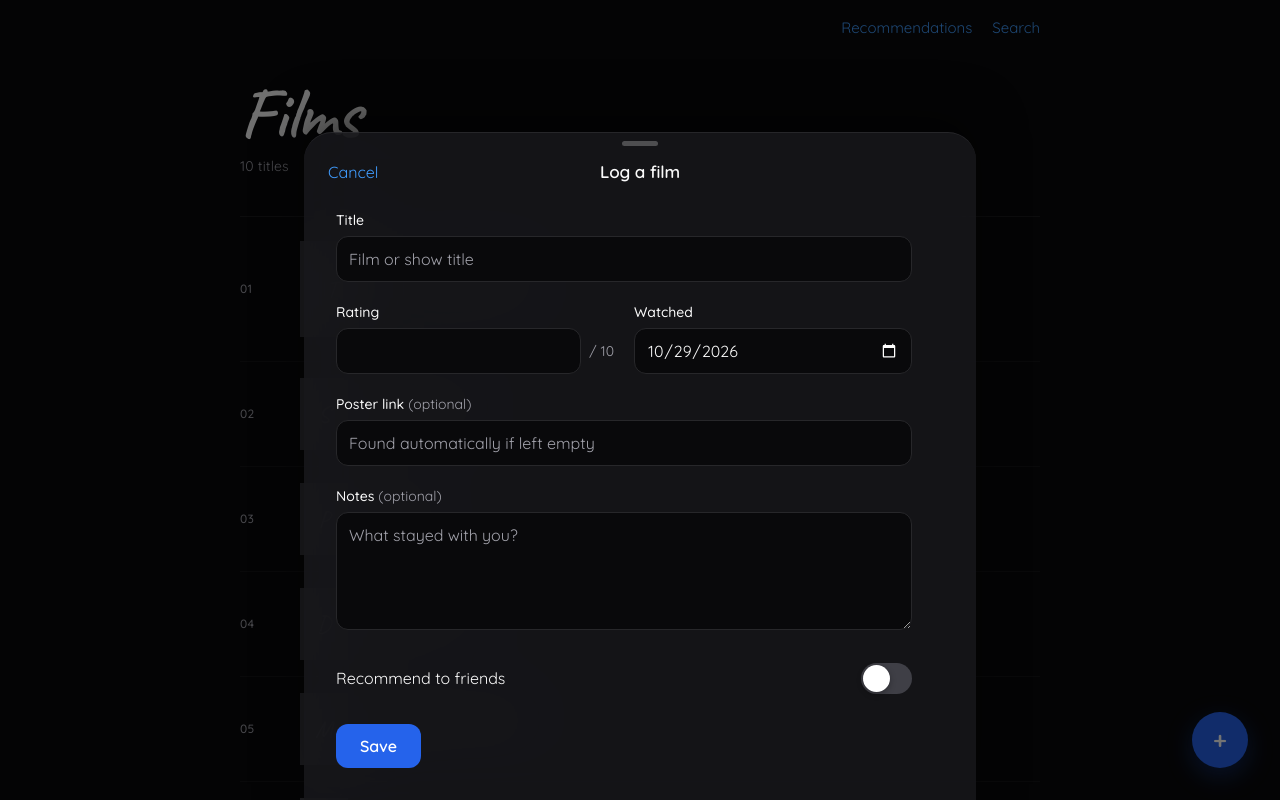
it: App › shows Recommend to friends as a switch
The image size is (1280, 800).
Check: the field labelled "Why watch it" is not shown
Click the switch labelled "Recommend to friends".
click(886, 678)  # box [861,662,912,694]
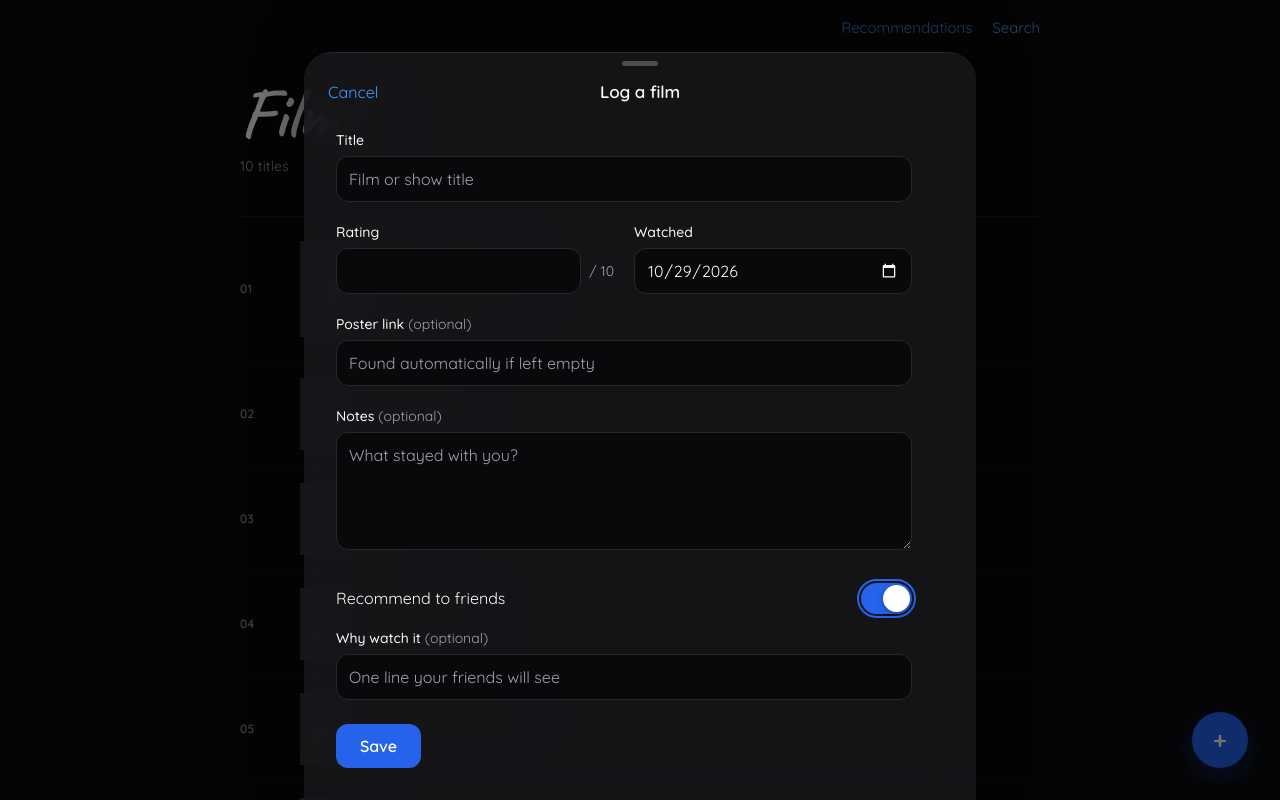
Check: the switch labelled "Recommend to friends" is checked, box [861,582,912,614]
Check: the field labelled "Why watch it (optional)" is shown, box [336,654,912,700]
